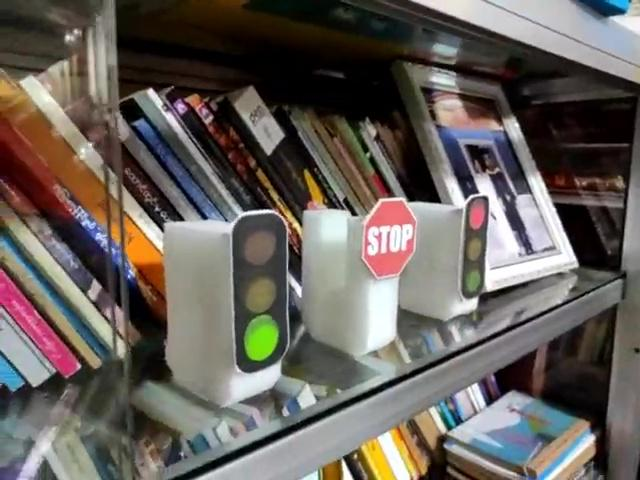Green Traffic Light: (231, 210, 292, 374)
Red Traffic Light: (458, 193, 490, 298)
Stop Sign: (362, 196, 419, 281)
